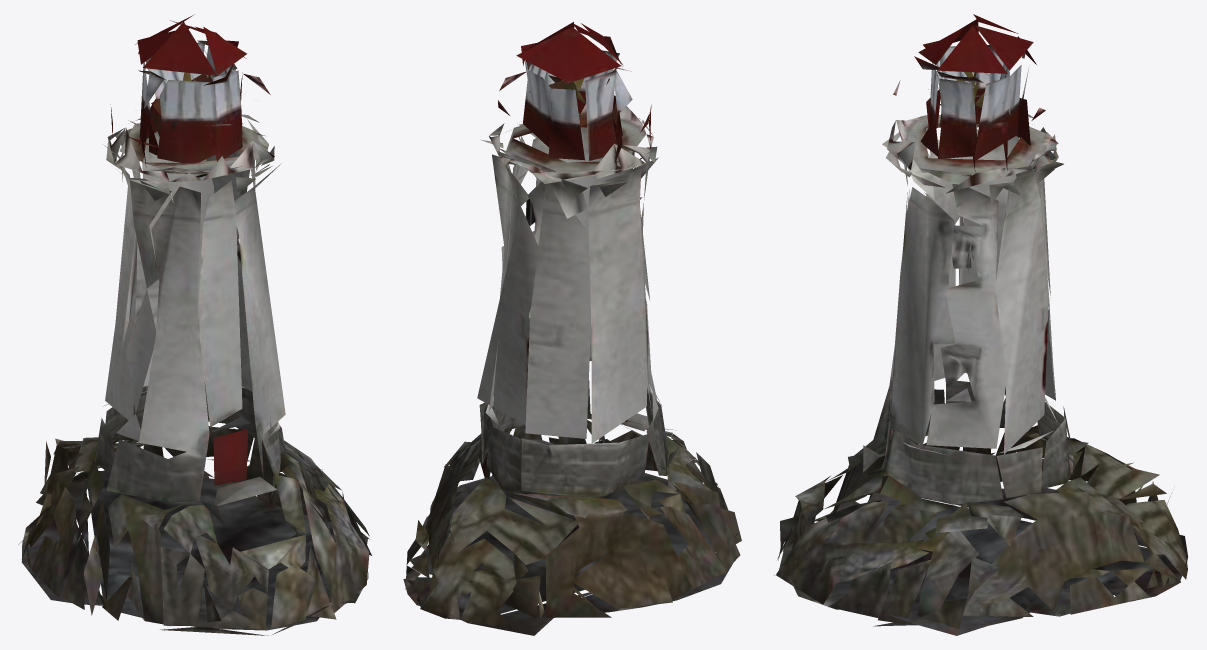
File: serra_leuchtturm_lo.glb
3 views of the same model, side by side, from view 1: azimuth 30°, elevation 25°; view 2: azimuth 150°, elevation 25°; view 3: azimuth 270°, elevation 25° (orthographic). The views are drawn at different scales.
Visible parts, largest first — view 1: Prop; view 2: Prop; view 3: Prop.
Boxes of the visible parts, x1,y1,x2,y2 form: Prop: (18, 14, 371, 635); Prop: (403, 22, 741, 635); Prop: (774, 14, 1187, 635).
Bounding box in the file's own units: 0.5655 × 0.9876 × 0.6835.
1 material, 1 textured.
